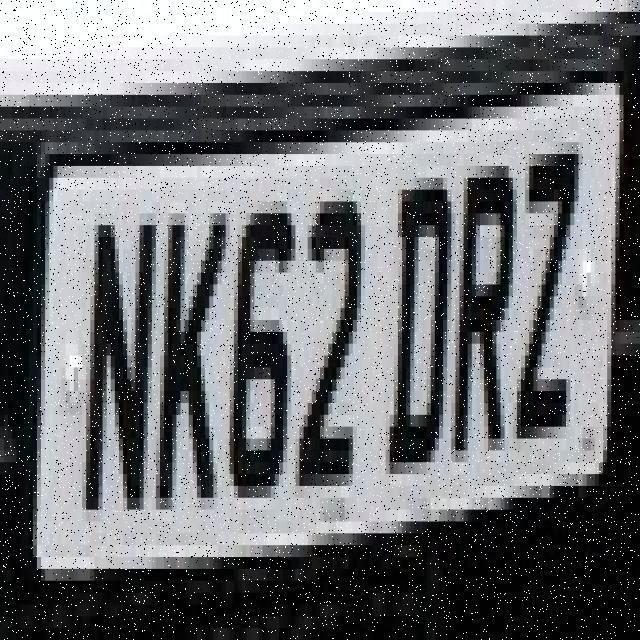LicensePlate: (25, 64, 628, 590)
